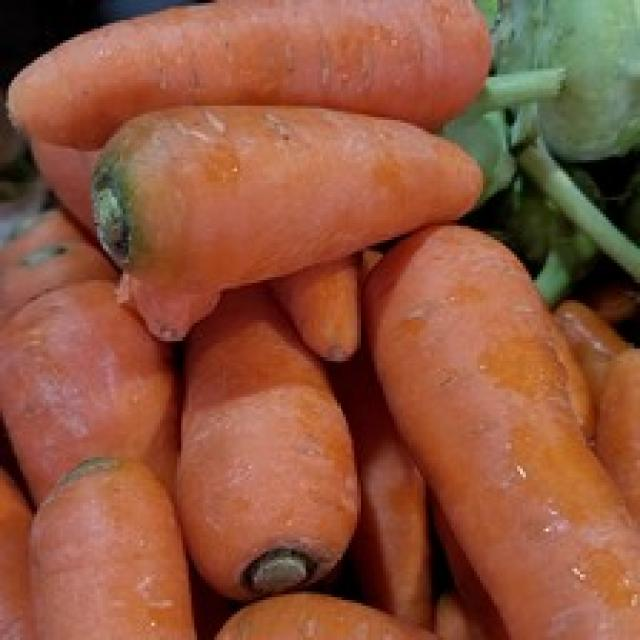Fresh_Carrot: (158, 118, 462, 250), (3, 296, 172, 446)
